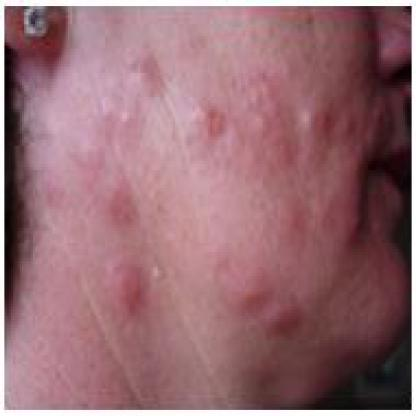Bed Bug: (175, 64, 355, 173), (212, 252, 306, 337), (250, 185, 359, 246), (105, 255, 169, 313), (225, 352, 298, 401), (114, 46, 175, 82), (72, 122, 105, 188), (92, 85, 149, 121), (107, 170, 136, 231), (363, 91, 392, 146), (37, 164, 66, 206)
